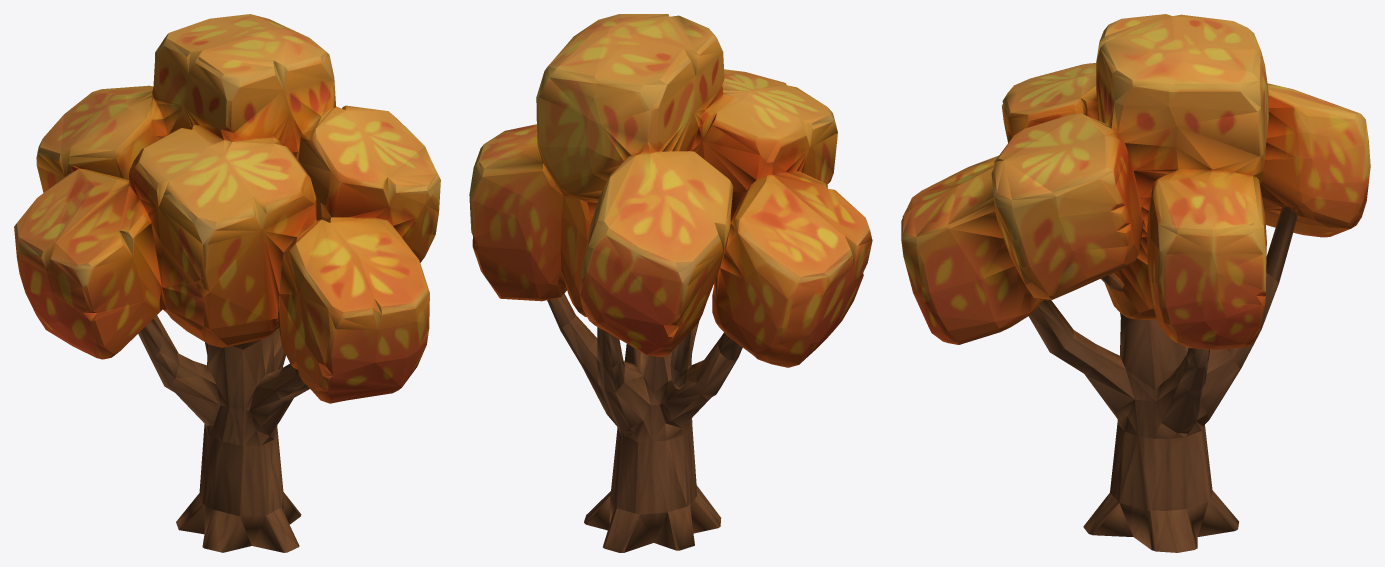
Rendered from prop.glb.
The picture shows the model from 3 angles, left to right: view 1: azimuth 30°, elevation 25°; view 2: azimuth 150°, elevation 25°; view 3: azimuth 270°, elevation 25°; orthographic projection. The views are drawn at different scales.
Parts seen in each view (by area): view 1: material; view 2: material; view 3: material.
Part boxes in pixels (x1,y1,x2,y2): material: (14, 14, 440, 552); material: (469, 14, 872, 552); material: (901, 14, 1370, 552).
Bounding box in the file's own units: 16.5 × 22 × 19.02.
Materials: 1 (1 with a texture image).
